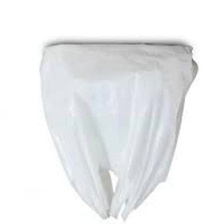plastic_bag: (33, 35, 200, 223)
